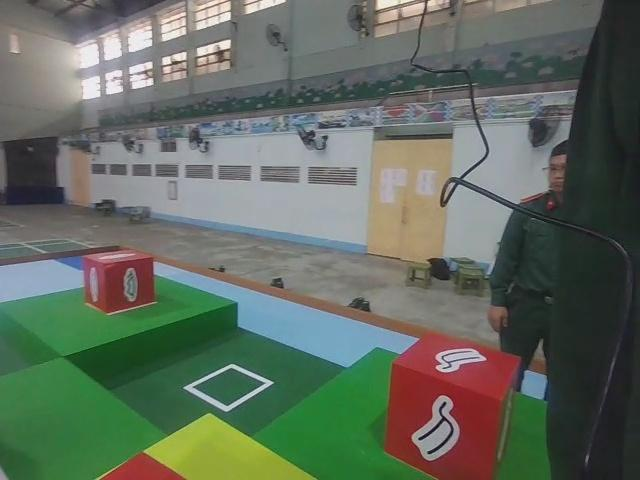R2 Real: (382, 328, 526, 480), (81, 248, 157, 315)
